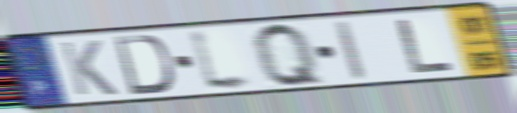D: (112, 33, 177, 97)
I: (333, 18, 369, 82)
K: (55, 38, 121, 98)
L: (185, 25, 260, 95), (392, 17, 458, 76)
Q: (251, 20, 330, 90)
